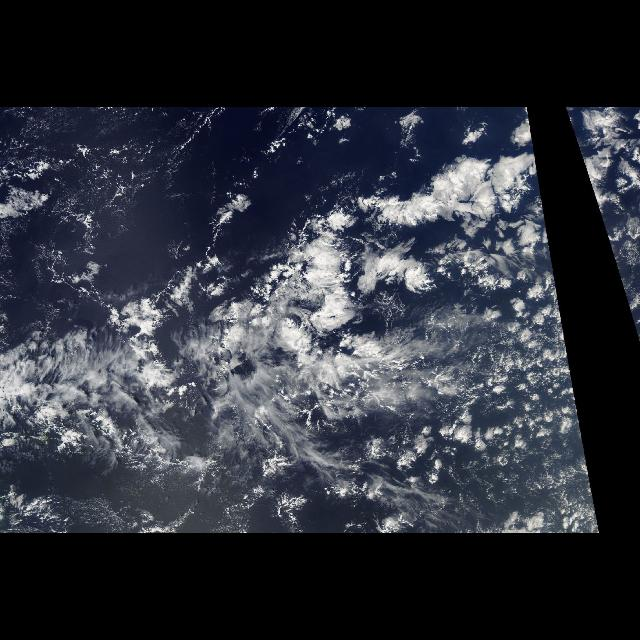Fish: (8, 308, 394, 467)
Flower: (250, 168, 564, 444)
Sugar: (0, 108, 172, 278)
